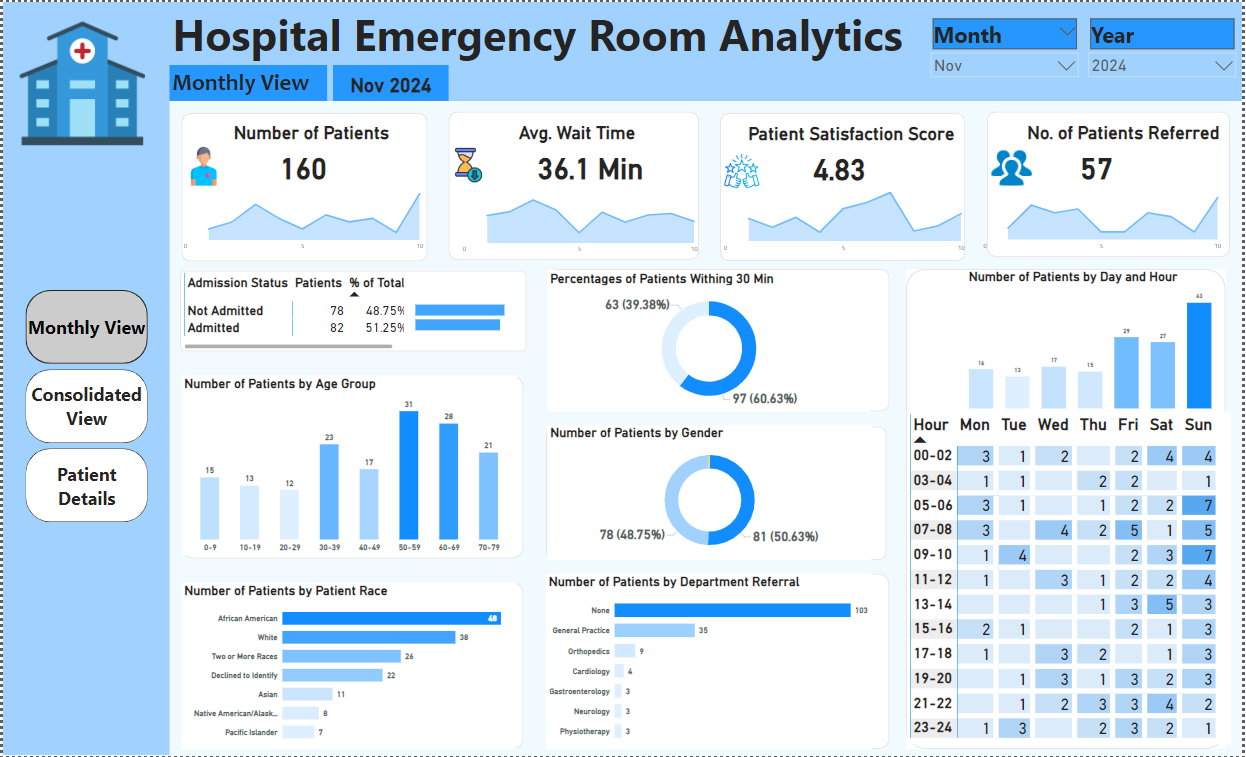

The page's visual inventory and layout, read from the dashboard file:
{"tool":"powerbi","page":{"name":"Monthly View","canvas":[2300,1400],"ordinal":0},"visuals":[{"type":"shape","box":[0,0,309.2,1398.2],"z":0},{"type":"shape","box":[295.2,0,2005.3,183.8],"z":1000},{"type":"textbox","box":[309.2,0,1384.2,130.9],"z":2000},{"type":"textbox","box":[309.2,117,292.4,66.8],"z":3000},{"type":"shape","box":[331.4,206.1,456.8,275.7],"z":4000},{"type":"card","fields":{"Values":["Hospital ER_Data.Number of Patients"]},"box":[470.7,261.8,172.7,80.8],"z":5000},{"type":"shape","box":[827.2,203.3,465.1,275.7],"z":6000},{"type":"slicer","fields":{"Values":["Date Table.Year"]},"box":[2005.2,25.3,294.1,126.5],"z":7000},{"type":"slicer","fields":{"Values":["Date Table.Month"]},"box":[1714.2,25.3,294.1,126.5],"z":8000},{"type":"textbox","box":[423.4,217.2,325.9,58.5],"z":9000},{"type":"areaChart","fields":{"Category":["Date Table.Date.Variation.Date Hierarchy.Day"],"Y":["Hospital ER_Data.Number of Patients"]},"box":[323.1,328.7,465.1,142],"z":10000},{"type":"card","fields":{"Values":["Min(Date Table.Month and Year)"]},"box":[612.7,117,214.5,66.8],"z":11000},{"type":"shape","box":[1331.5,205.6,455.4,275.2],"z":12000},{"type":"shape","box":[1827.1,203.3,451.2,270.2],"z":13000},{"type":"textbox","box":[952.5,217.2,247.9,58.5],"z":14000},{"type":"textbox","box":[1378.9,221.4,408,85.4],"z":15000},{"type":"textbox","box":[1897.6,218.2,401.7,56.9],"z":16000},{"type":"card","fields":{"Values":["Hospital ER_Data.Avg Wait Time"]},"box":[966.5,253.5,247.9,97.5],"z":17000},{"type":"areaChart","fields":{"Category":["Date Table.Date.Variation.Date Hierarchy.Day"],"Y":["Avg(Hospital ER_Data.Patient Waittime)"]},"box":[841.1,339.8,456.8,136.5],"z":18000},{"type":"card","fields":{"Values":["Hospital ER_Data.Satisfaction Score"]},"box":[1428.8,256.2,247.9,97.5],"z":19000},{"type":"shape","box":[328.7,498.6,643.4,150.4],"z":20000},{"type":"areaChart","fields":{"Category":["Date Table.Date.Variation.Date Hierarchy.Day"],"Y":["Sum(Hospital ER_Data.Patient Satisfaction Score)"]},"box":[1325.8,337,467.9,136.5],"z":21000},{"type":"card","fields":{"Values":["Hospital ER_Data.No of Patients Referred"]},"box":[1905.1,253.5,247.9,97.5],"z":22000},{"type":"areaChart","fields":{"Category":["Date Table.Date.Variation.Date Hierarchy.Day"],"Y":["Hospital ER_Data.No of Patients Referred"]},"box":[1807.6,320.3,462.3,150.4],"z":23000},{"type":"pivotTable","title":"Patient Admission Status","fields":{"Rows":["Hospital ER_Data.Admission Status"],"Values":["Hospital ER_Data.Number of Patients1","Hospital ER_Data.Number of Patients"]},"box":[331.4,498.6,417.8,150.4],"z":24000},{"type":"shape","box":[331.4,693.5,635,339.8],"z":25000},{"type":"barChart","fields":{"Category":["Hospital ER_Data.Admission Status"],"Y":["Hospital ER_Data.Number of Patients"]},"box":[760.4,534.8,211.7,94.7],"z":26000},{"type":"clusteredColumnChart","fields":{"Category":["Hospital ER_Data.Age Group"],"Y":["Hospital ER_Data.Number of Patients"]},"box":[331.4,693.5,623.9,334.2],"z":27000},{"type":"shape","box":[1011,1061.2,635,325.9],"z":28000},{"type":"clusteredBarChart","fields":{"Category":["Hospital ER_Data.Department Referral"],"Y":["Hospital ER_Data.Number of Patients"]},"box":[1008.2,1061.2,604.4,325.9],"z":29000},{"type":"shape","box":[1008.2,788.2,632.2,247.9],"z":30000},{"type":"shape","box":[1013.8,495.8,632.2,264.6],"z":31000},{"type":"donutChart","title":"Percentages of Patients Withing 30 Min","fields":{"Y":["Hospital ER_Data.Number of Patients"],"Category":["Hospital ER_Data.Wait Time"]},"box":[1011,498.6,598.8,261.8],"z":32000},{"type":"donutChart","title":"Number of Patients by Gender","fields":{"Y":["Hospital ER_Data.Number of Patients"],"Category":["Hospital ER_Data.Patient Gender"]},"box":[1011,785.4,601.6,250.7],"z":33000},{"type":"shape","box":[331.4,1077.9,635,309.2],"z":34000},{"type":"clusteredBarChart","fields":{"Y":["Hospital ER_Data.Number of Patients"],"Category":["Hospital ER_Data.Patient Race"]},"box":[331.4,1077.9,621.1,309.2],"z":35000},{"type":"shape","box":[1676.7,495.8,593.2,891.3],"z":36000},{"type":"pivotTable","fields":{"Rows":["Hospital ER_Data.Waittime Interval"],"Columns":["Date Table.Day Name"],"Values":["Hospital ER_Data.Number of Patients"]},"box":[1678.7,761.7,600.4,618.3],"z":37000},{"type":"columnChart","title":"Number of Patients by Day and Hour","fields":{"Y":["Hospital ER_Data.Number of Patients"],"Category":["Date Table.Day Name"]},"box":[1788.1,495.8,462.3,264.6],"z":38000},{"type":"image","box":[332.1,259.3,82.2,91.7],"z":39000},{"type":"image","box":[825.5,262.5,79.1,82.2],"z":40000},{"type":"image","box":[1325.2,275.2,91.7,75.9],"z":41000},{"type":"image","box":[1828.1,268.8,91.7,75.9],"z":42000},{"type":"pageNavigator","box":[41.1,534.5,227.7,433.3],"z":42001},{"type":"image","box":[25.3,28.5,243.5,246.7],"z":42002}]}

Visuals, with their boxes in screenshot pixels (x1, y1, x2, y2), scaled from the page's 2300x1400 canvas onto the 1246x757 screenshot:
shape: [left=0, top=0, right=168, bottom=756]
shape: [left=160, top=0, right=1245, bottom=99]
textbox: [left=168, top=0, right=917, bottom=71]
textbox: [left=168, top=63, right=326, bottom=99]
shape: [left=180, top=111, right=427, bottom=261]
card - Hospital ER_Data.Number of Patients: [left=255, top=142, right=349, bottom=185]
shape: [left=448, top=110, right=700, bottom=259]
slicer - Date Table.Year: [left=1086, top=14, right=1245, bottom=82]
slicer - Date Table.Month: [left=929, top=14, right=1088, bottom=82]
textbox: [left=229, top=117, right=406, bottom=149]
areaChart - Date Table.Date.Variation.Date Hierarchy.Day x Hospital ER_Data.Number of Patients: [left=175, top=178, right=427, bottom=255]
card - Min(Date Table.Month and Year): [left=332, top=63, right=448, bottom=99]
shape: [left=721, top=111, right=968, bottom=260]
shape: [left=990, top=110, right=1234, bottom=256]
textbox: [left=516, top=117, right=650, bottom=149]
textbox: [left=747, top=120, right=968, bottom=166]
textbox: [left=1028, top=118, right=1245, bottom=149]
card - Hospital ER_Data.Avg Wait Time: [left=524, top=137, right=658, bottom=190]
areaChart - Date Table.Date.Variation.Date Hierarchy.Day x Avg(Hospital ER_Data.Patient Waittime): [left=456, top=184, right=703, bottom=258]
card - Hospital ER_Data.Satisfaction Score: [left=774, top=139, right=908, bottom=191]
shape: [left=178, top=270, right=527, bottom=351]
areaChart - Date Table.Date.Variation.Date Hierarchy.Day x Sum(Hospital ER_Data.Patient Satisfaction Score): [left=718, top=182, right=972, bottom=256]
card - Hospital ER_Data.No of Patients Referred: [left=1032, top=137, right=1166, bottom=190]
areaChart - Date Table.Date.Variation.Date Hierarchy.Day x Hospital ER_Data.No of Patients Referred: [left=979, top=173, right=1230, bottom=255]
"Patient Admission Status" pivotTable: [left=180, top=270, right=406, bottom=351]
shape: [left=180, top=375, right=524, bottom=559]
barChart - Hospital ER_Data.Admission Status x Hospital ER_Data.Number of Patients: [left=412, top=289, right=527, bottom=340]
clusteredColumnChart - Hospital ER_Data.Age Group x Hospital ER_Data.Number of Patients: [left=180, top=375, right=518, bottom=556]
shape: [left=548, top=574, right=892, bottom=750]
clusteredBarChart - Hospital ER_Data.Department Referral x Hospital ER_Data.Number of Patients: [left=546, top=574, right=874, bottom=750]
shape: [left=546, top=426, right=889, bottom=560]
shape: [left=549, top=268, right=892, bottom=411]
"Percentages of Patients Withing 30 Min" donutChart: [left=548, top=270, right=872, bottom=411]
"Number of Patients by Gender" donutChart: [left=548, top=425, right=874, bottom=560]
shape: [left=180, top=583, right=524, bottom=750]
clusteredBarChart - Hospital ER_Data.Number of Patients x Hospital ER_Data.Patient Race: [left=180, top=583, right=516, bottom=750]
shape: [left=908, top=268, right=1230, bottom=750]
pivotTable - Hospital ER_Data.Waittime Interval x Date Table.Day Name: [left=909, top=412, right=1235, bottom=746]
"Number of Patients by Day and Hour" columnChart: [left=969, top=268, right=1219, bottom=411]
image: [left=180, top=140, right=224, bottom=190]
image: [left=447, top=142, right=490, bottom=186]
image: [left=718, top=149, right=768, bottom=190]
image: [left=990, top=145, right=1040, bottom=186]
pageNavigator: [left=22, top=289, right=146, bottom=523]
image: [left=14, top=15, right=146, bottom=149]
